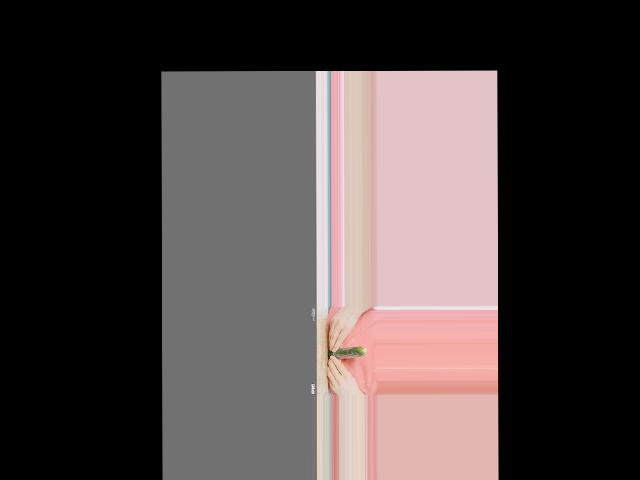cucumber: (327, 345, 366, 358)
